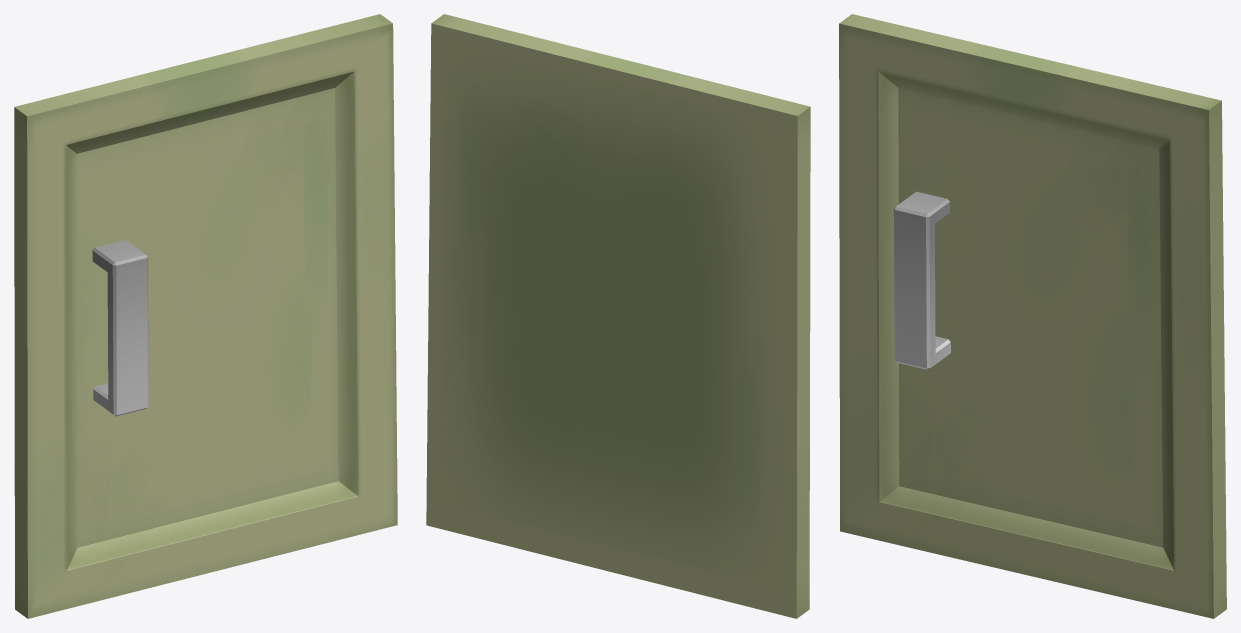
File: CounterDoubleDoorR.fbx
The picture shows the model from 3 angles, left to right: view 1: azimuth 30°, elevation 25°; view 2: azimuth 150°, elevation 25°; view 3: azimuth 330°, elevation 25°; orthographic projection.
Visible parts, largest first — view 1: CounterDoubleDoorR; view 2: CounterDoubleDoorR; view 3: CounterDoubleDoorR.
Boxes of the visible parts, left/top/right/bottom form: CounterDoubleDoorR: left=14, top=14, right=397, bottom=618; CounterDoubleDoorR: left=426, top=14, right=810, bottom=618; CounterDoubleDoorR: left=839, top=14, right=1226, bottom=618.
Bounding box in the file's own units: 49.77 × 64.92 × 7.02.
